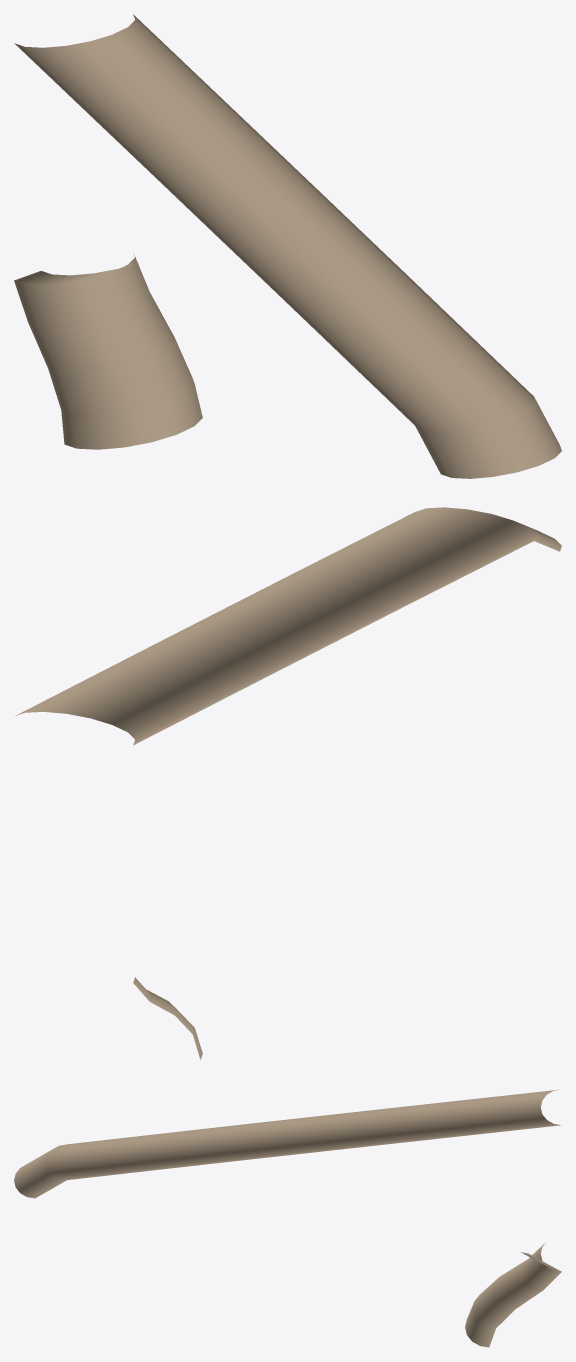
Rendered from roman.glb.
The picture shows the model from 3 angles, top to bottom: view 1: azimuth 30°, elevation 25°; view 2: azimuth 150°, elevation 25°; view 3: azimuth 270°, elevation 25°; orthographic projection. The views are drawn at different scales.
Parts seen in each view (by area): view 1: noses_roman; view 2: noses_roman; view 3: noses_roman.
Boxes of the visible parts, left/top/right/bottom form: noses_roman: left=14, top=14, right=561, bottom=478; noses_roman: left=15, top=507, right=561, bottom=1059; noses_roman: left=14, top=1089, right=561, bottom=1347.
Bounding box in the file's own units: 0.12 × 0.3 × 0.678.
